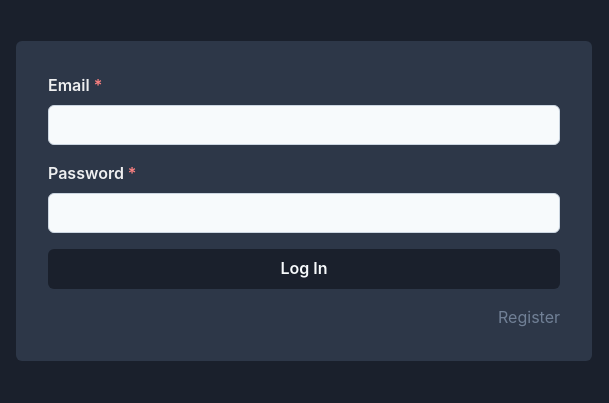
Scenario: login.spec.ts - Login Form › should show errors when fields are empty
Click the button with test id "login-submit-btn" at (304, 269), box [48,249,560,289]
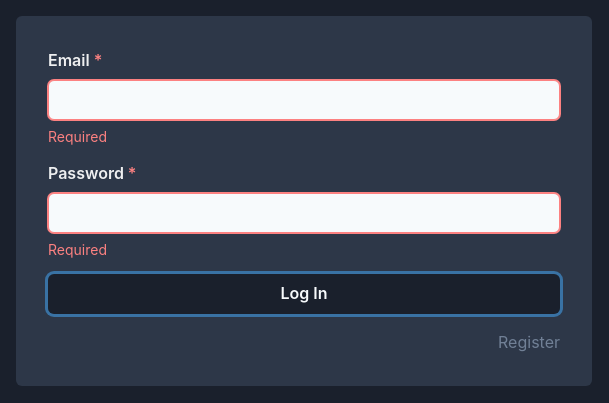
Expected: the text "Required" below "Email" is shown, [48,128,107,145]
Expected: the text "Required" below "Password" is shown, [48,241,107,258]
